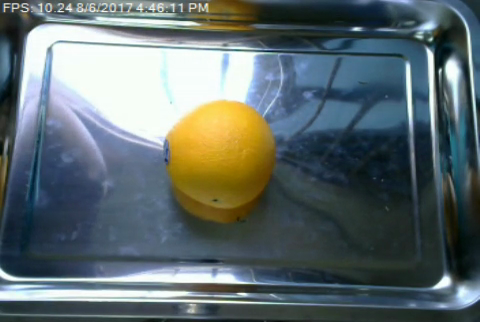Orange: (163, 98, 276, 208)
